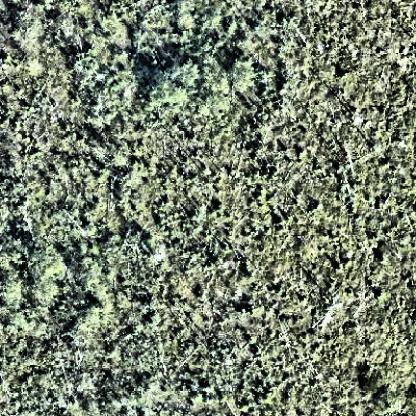tree-top: (1, 235, 68, 312), (141, 57, 203, 106), (8, 3, 46, 51), (225, 55, 260, 95), (357, 361, 388, 397)
